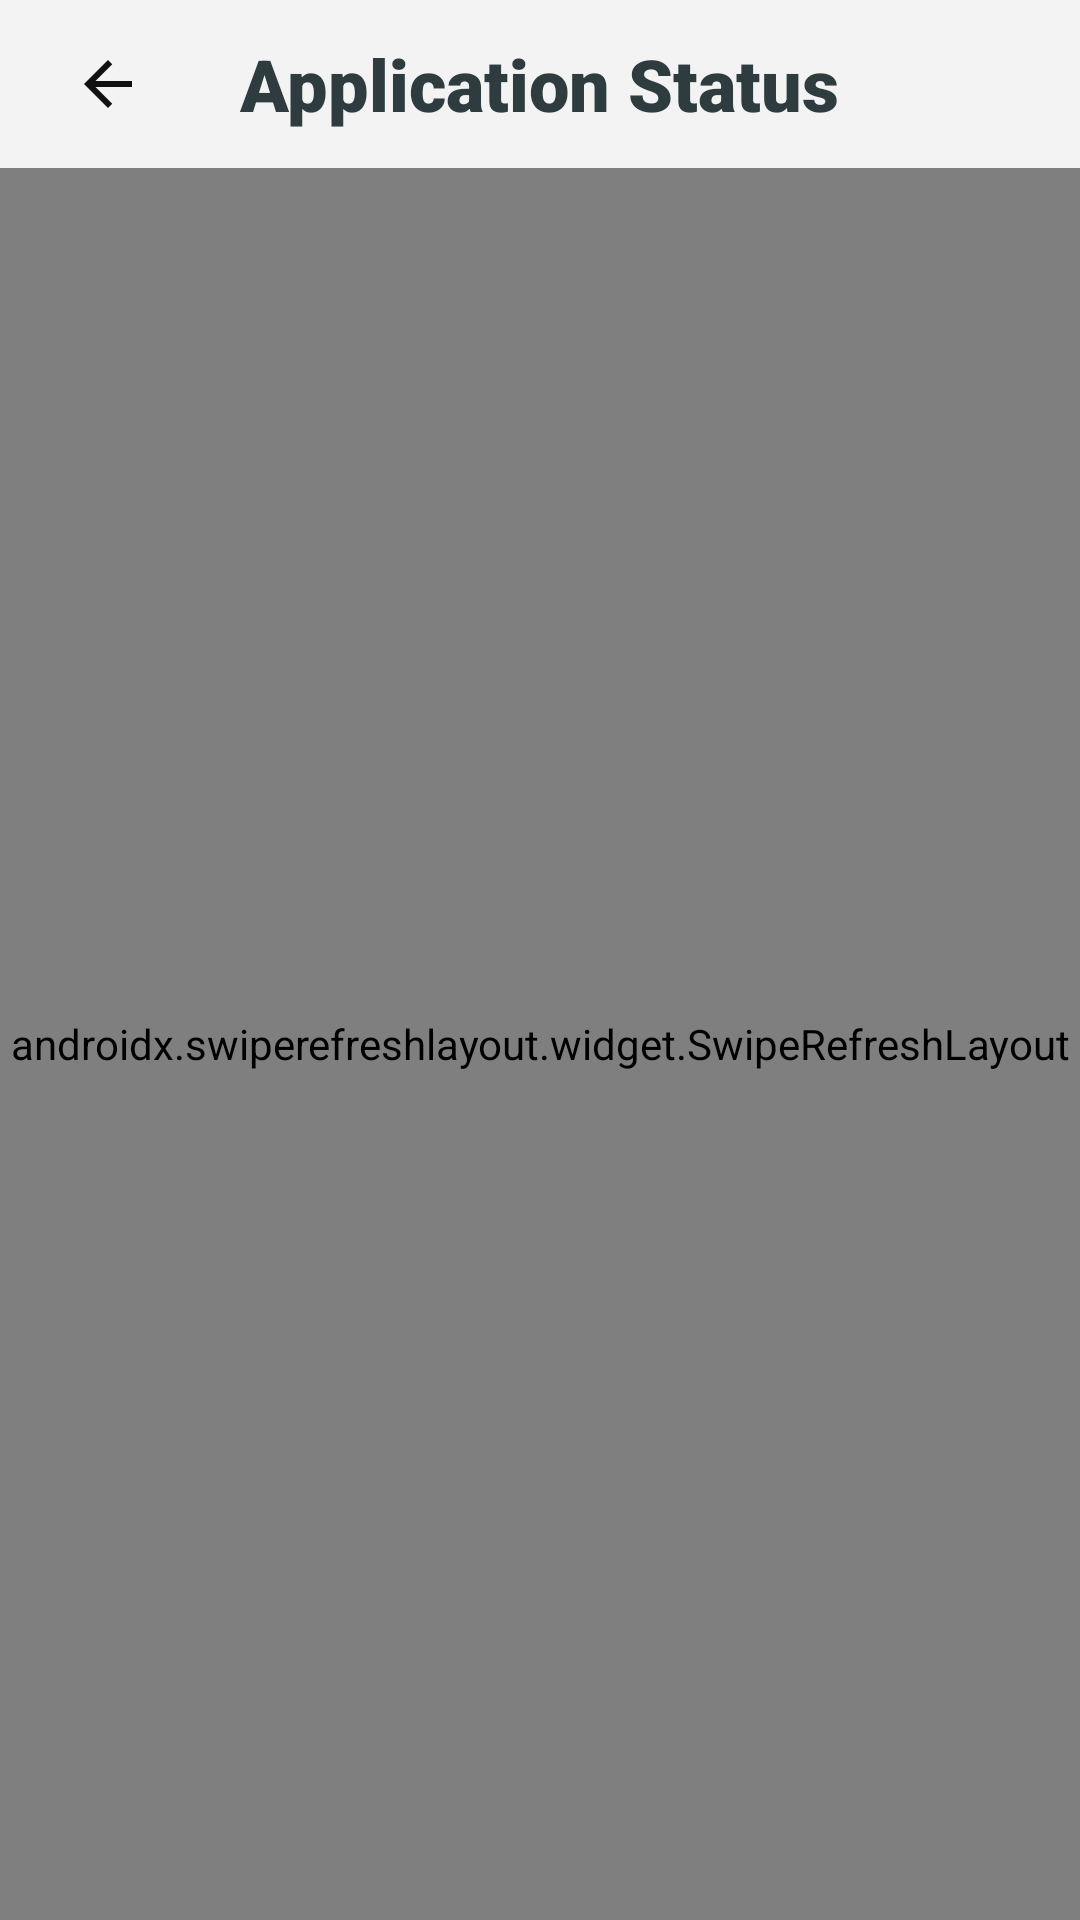

Screen size 1080w x 1920h. Icon name, then its box in pixels as (x1, y1, x2, y2):
back: (84, 60, 132, 108)
